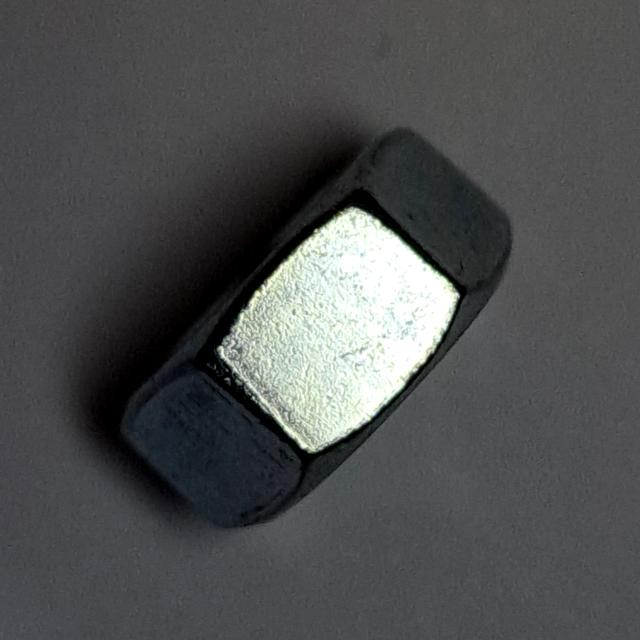Side_Excellent: (111, 115, 525, 542)
